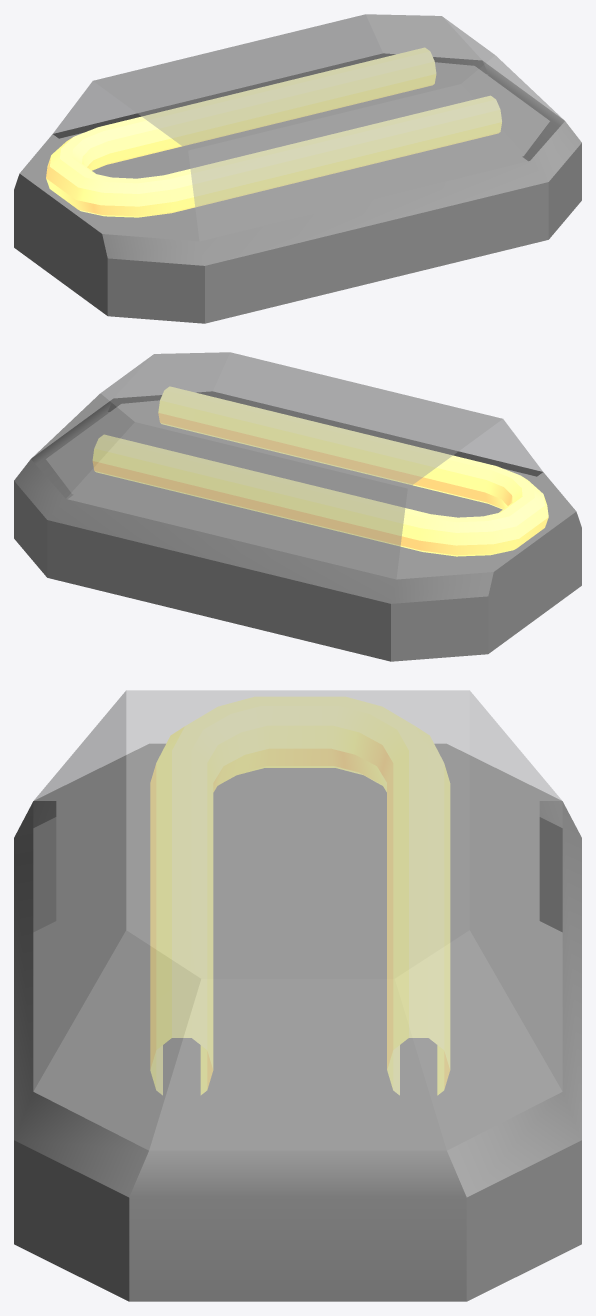
Rendered from Light.fbx.
3 renders of one model, top to bottom at view 1: azimuth 30°, elevation 25°; view 2: azimuth 150°, elevation 25°; view 3: azimuth 270°, elevation 25°, orthographic. The views are drawn at different scales.
Visible parts, largest first — view 1: pCube1, pCylinder5; view 2: pCube1, pCylinder5; view 3: pCube1, pCylinder5.
Part boxes in pixels (bbox=[...]): pCube1: bbox=[14, 14, 581, 323]; pCylinder5: bbox=[46, 47, 501, 217]; pCube1: bbox=[14, 352, 581, 661]; pCylinder5: bbox=[92, 386, 548, 556]; pCube1: bbox=[14, 690, 581, 1301]; pCylinder5: bbox=[150, 696, 450, 1095].
Bounding box in the file's own units: 7.24 × 2.14 × 4.17.
